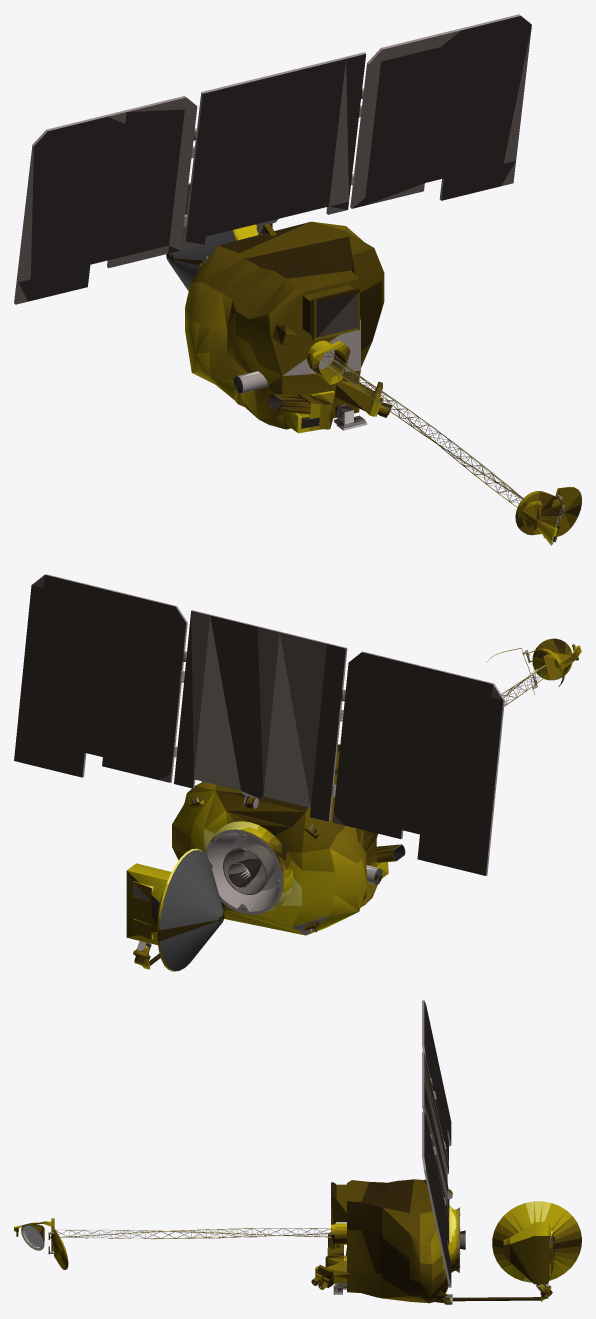
File: odyssey.glb
The picture shows the model from 3 angles, top to bottom: view 1: azimuth 30°, elevation 25°; view 2: azimuth 150°, elevation 25°; view 3: azimuth 270°, elevation 25°; orthographic projection. The views are drawn at different scales.
Parts seen in each view (by area): view 1: solar-panel, foil, body; view 2: body, foil; view 3: foil, body.
Boxes of the visible parts, x1=… form: solar-panel: x1=15, y1=16, x2=531, y2=304; foil: x1=166, y1=183, x2=581, y2=545; body: x1=14, y1=14, x2=564, y2=544; body: x1=14, y1=574, x2=546, y2=951; foil: x1=126, y1=638, x2=581, y2=971; foil: x1=14, y1=1179, x2=581, y2=1303; body: x1=21, y1=1000, x2=548, y2=1304.
Size of the model in its own units: 5.67 by 3.36 by 8.22.
